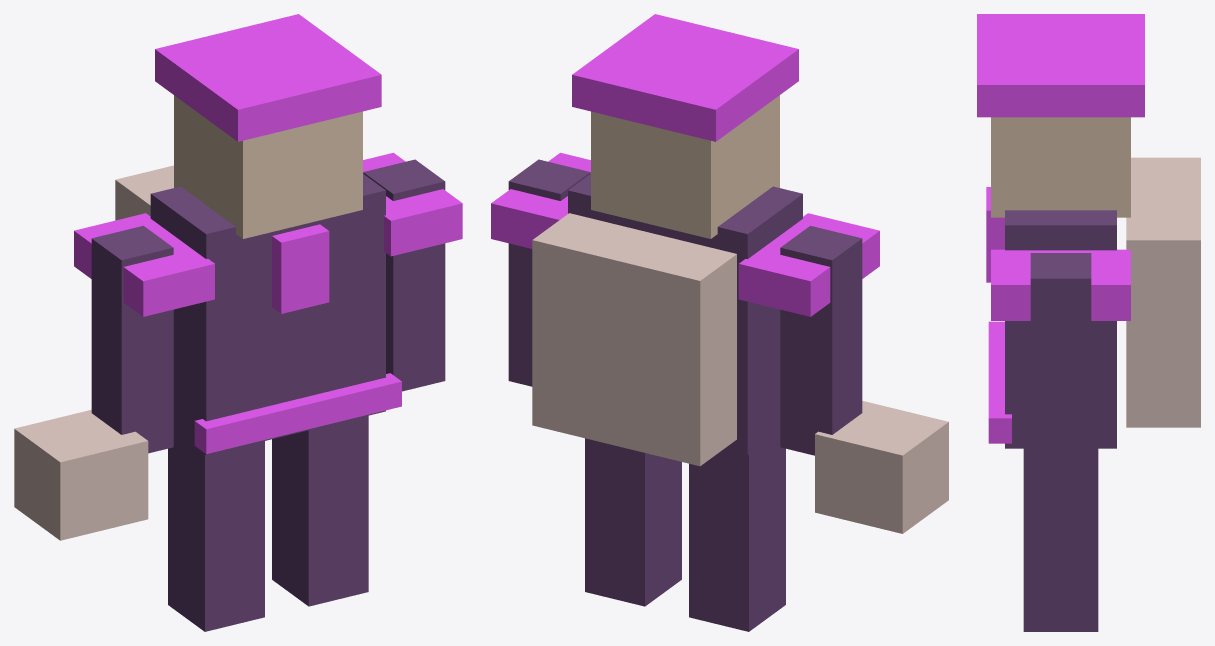
Rendered from 19_varren_cinderholt_sentinel_of_anomaly.glb.
3 renders of one model, left to right at view 1: azimuth 30°, elevation 25°; view 2: azimuth 150°, elevation 25°; view 3: azimuth 270°, elevation 25°, orthographic.
Visible parts, largest first — view 1: Varren Cinderholt, Sentinel of Anomaly; view 2: Varren Cinderholt, Sentinel of Anomaly; view 3: Varren Cinderholt, Sentinel of Anomaly.
Boxes of the visible parts, x1=… form: Varren Cinderholt, Sentinel of Anomaly: x1=14, y1=14, x2=462, y2=631; Varren Cinderholt, Sentinel of Anomaly: x1=491, y1=14, x2=948, y2=631; Varren Cinderholt, Sentinel of Anomaly: x1=977, y1=14, x2=1200, y2=631.
Size of the model in its own units: 1.08 by 1.39 by 0.5216.
